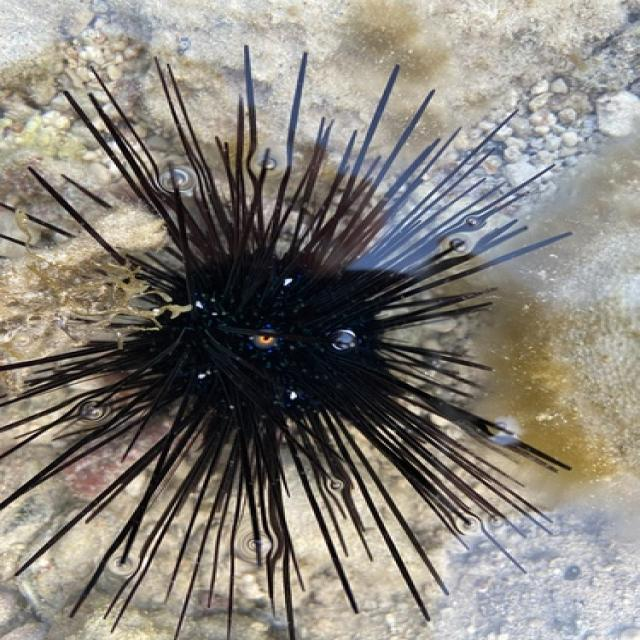Urchin: (15, 43, 569, 640)
